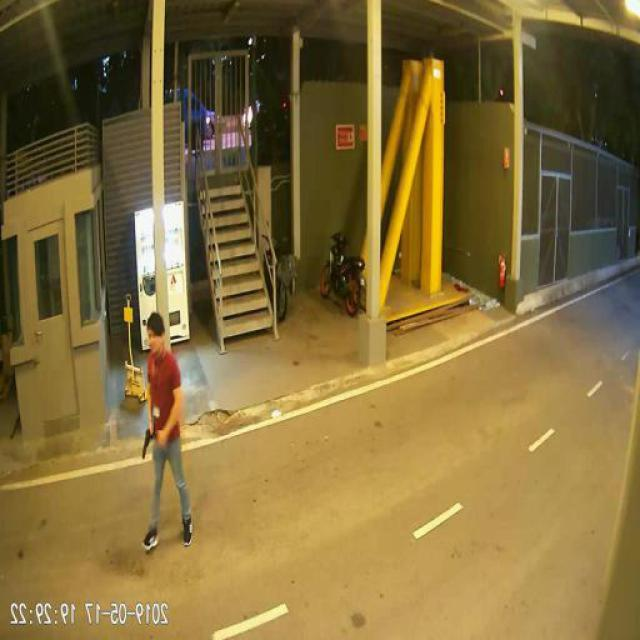weapon: (138, 430, 156, 460)
